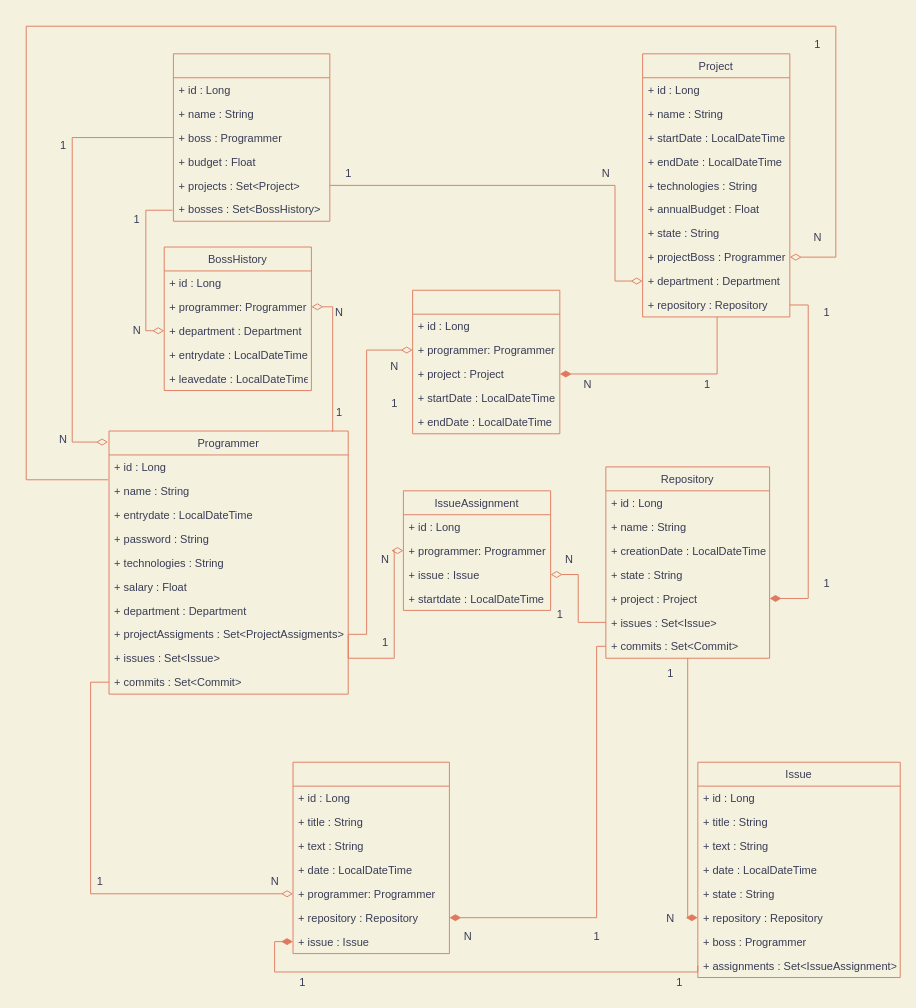
Image size: 916x1008. Some labels were removed from this diagram. The shapes that lost their labels are listed below. From the top down, each one's box as (x1, y1, x2, y2) in pixels, then its label:
(172, 53, 330, 221): Deparment
(412, 289, 560, 434): ProjectAssignment
(292, 761, 449, 954): Commit
